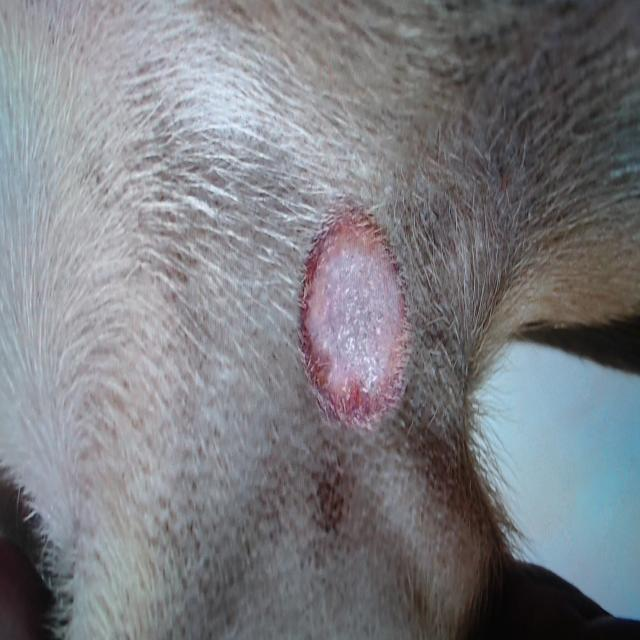ringworm: (259, 174, 443, 460)
